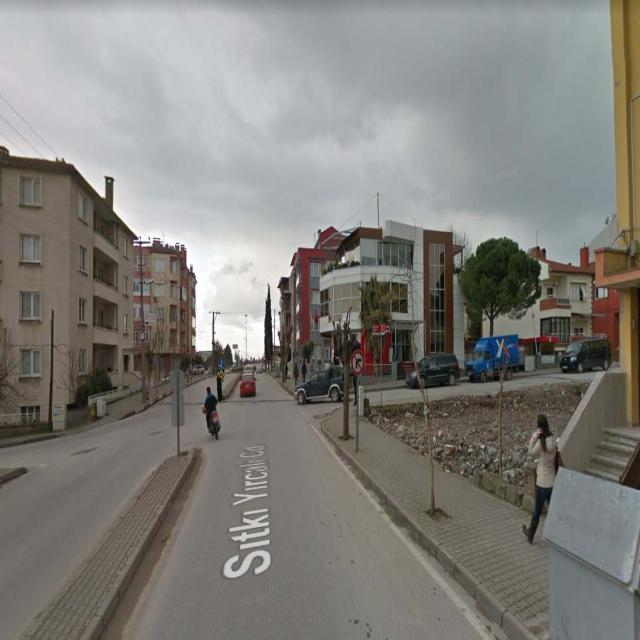ilerisol: (218, 359, 225, 368)
sagadonulmez: (352, 351, 364, 374)
